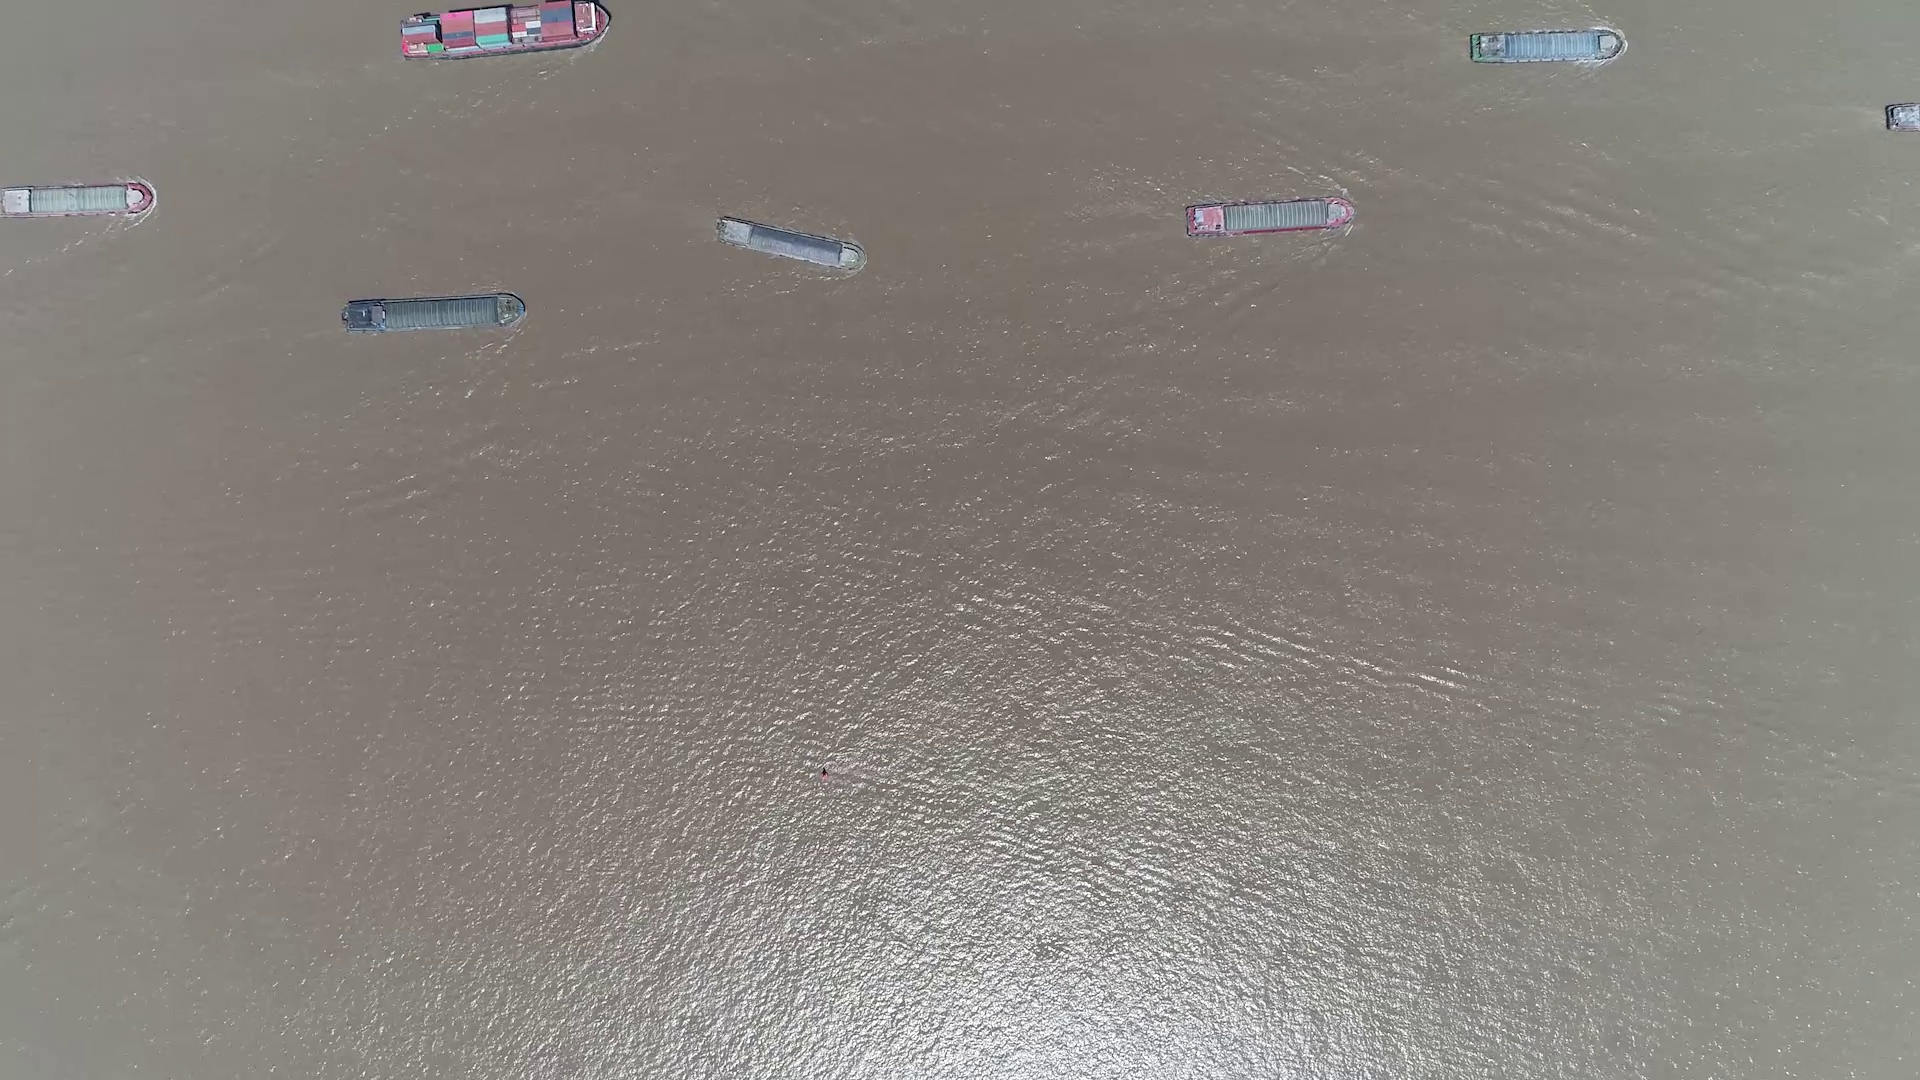ship: (397, 3, 607, 57), (713, 218, 862, 272), (340, 295, 524, 335), (1185, 199, 1354, 237), (0, 183, 152, 218)
